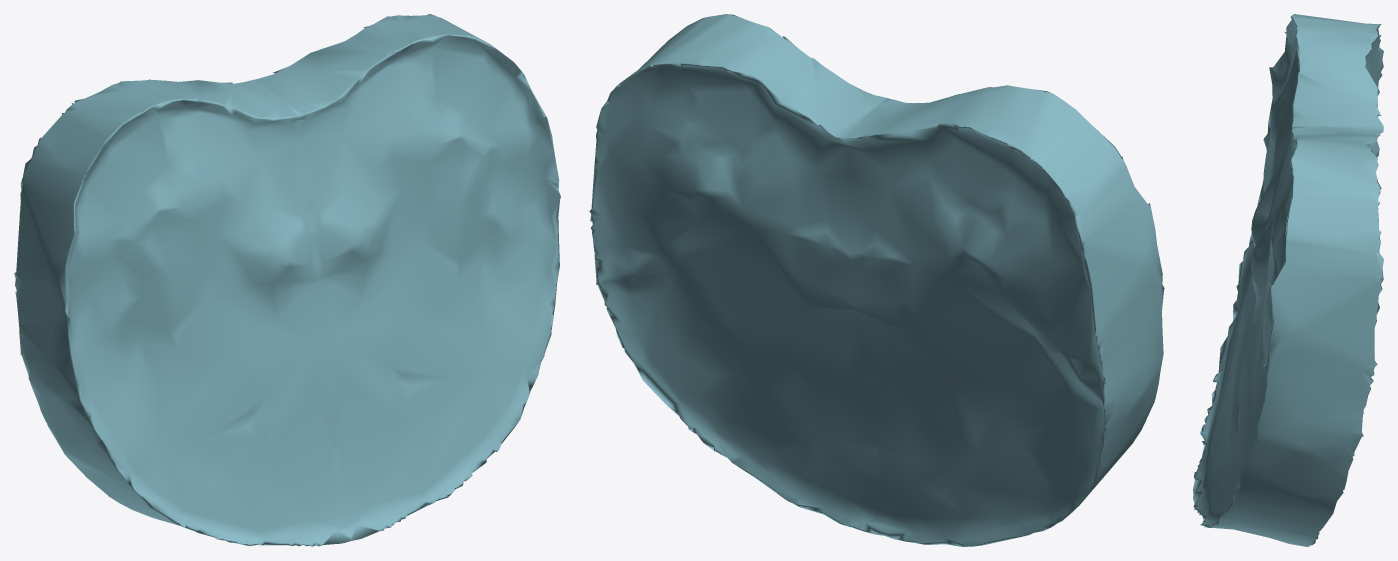
3 views of the same model, side by side, from view 1: azimuth 30°, elevation 25°; view 2: azimuth 150°, elevation 25°; view 3: azimuth 270°, elevation 25° (orthographic). The views are drawn at different scales.
Visible parts, largest first — view 1: 腰1—腰2椎间盘; view 2: 腰1—腰2椎间盘; view 3: 腰1—腰2椎间盘.
Part boxes in pixels (<box>): 腰1—腰2椎间盘: <box>14,14,560,546</box>; 腰1—腰2椎间盘: <box>589,14,1164,546</box>; 腰1—腰2椎间盘: <box>1193,14,1383,546</box>.
Size of the model in its own units: 0.0636 by 0.0562 by 0.0225.
